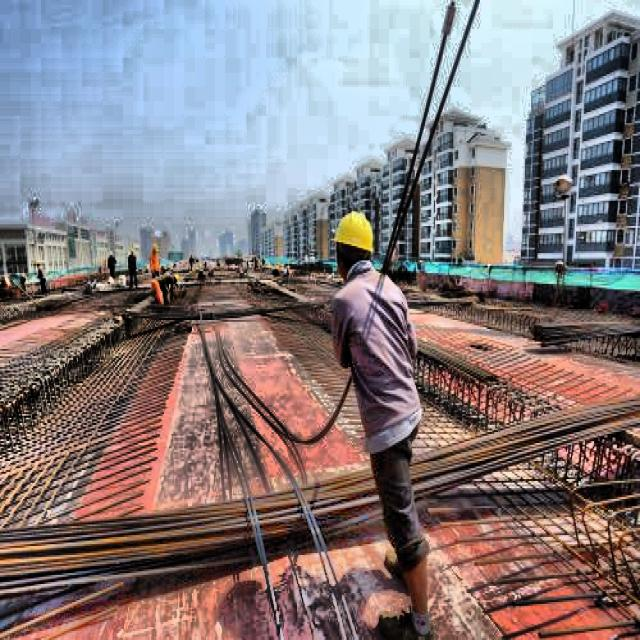helmet: (331, 206, 379, 282)
